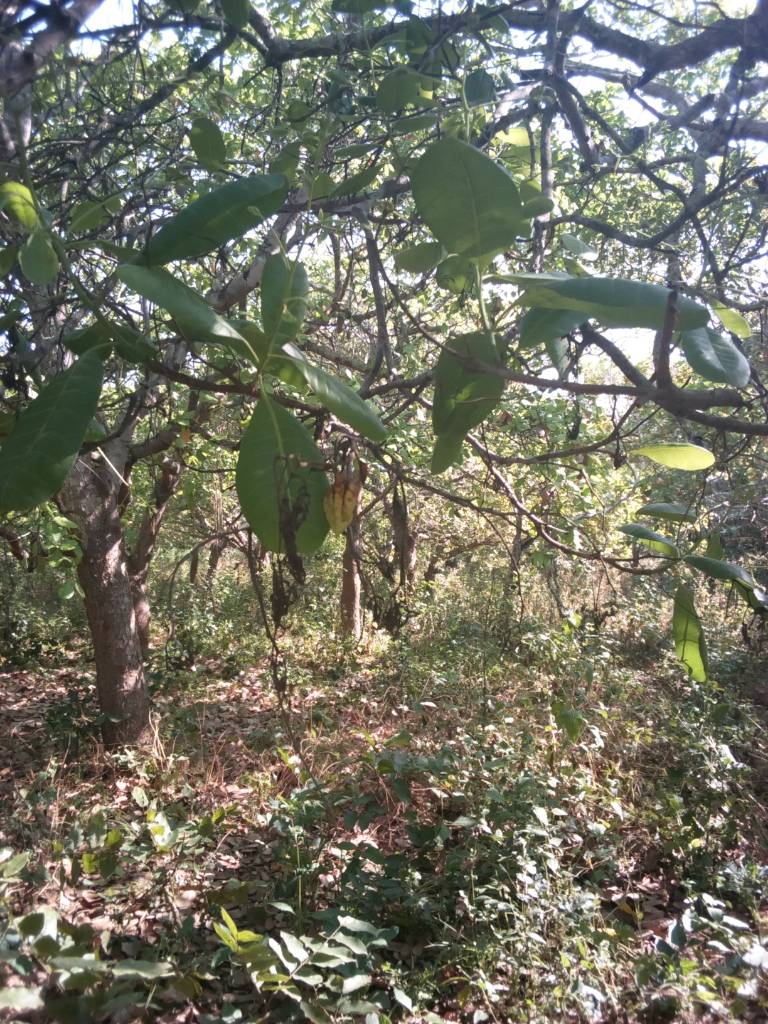Dessèchement des bourgeons: (263, 449, 357, 683), (383, 474, 421, 572)
